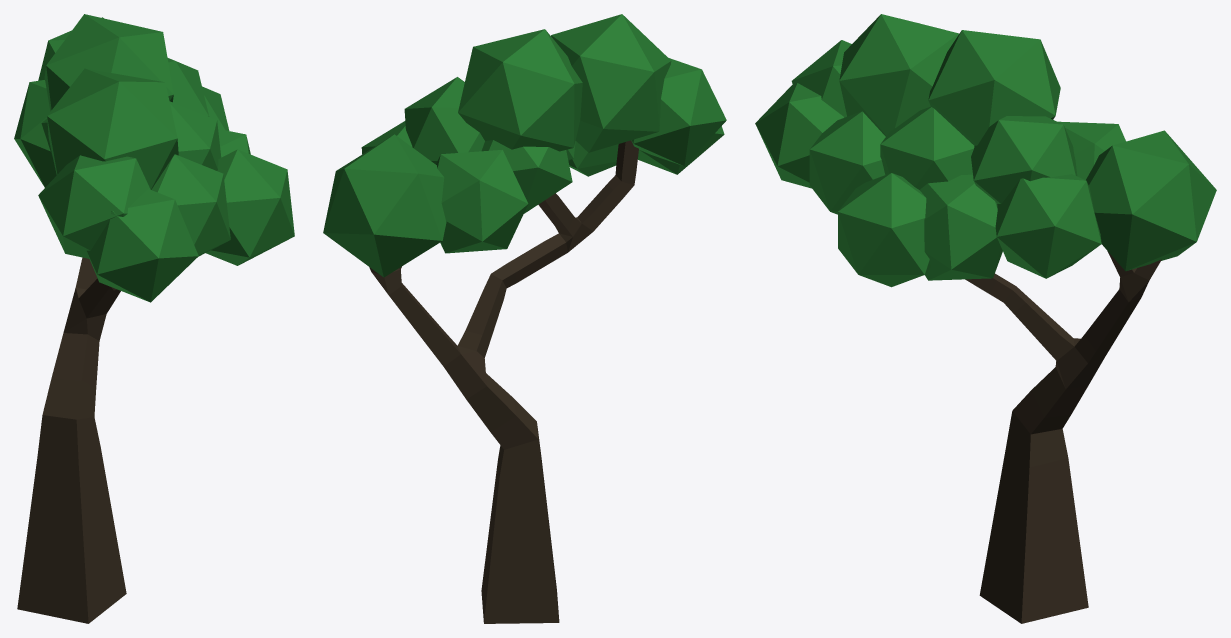
Rendered from Tree1.glb.
3 renders of one model, left to right at view 1: azimuth 30°, elevation 25°; view 2: azimuth 150°, elevation 25°; view 3: azimuth 270°, elevation 25°, orthographic. The views are drawn at different scales.
Visible parts, largest first — view 1: Trunk, Leaf.001, Leaf, Leaf.006, Leaf.009, Leaf.007, Leaf.003, Leaf.005, Leaf.011, Leaf.012, Leaf.010, Leaf.004 (+1 smaller); view 2: Trunk, Leaf.002, Leaf.007, Leaf.001, Leaf.005, Leaf.006, Leaf.012, Leaf.008, Leaf.003, Leaf; view 3: Trunk, Leaf.002, Leaf.007, Leaf.001, Leaf.004, Leaf.009, Leaf.010, Leaf.012, Leaf.011, Leaf.003, Leaf, Leaf.005 (+1 smaller).
Part boxes in pixels (left/top/right/bottom): Trunk: left=17, top=257, right=126, bottom=623; Leaf.001: left=47, top=68, right=178, bottom=189; Leaf: left=87, top=189, right=198, bottom=302; Leaf.006: left=38, top=155, right=150, bottom=258; Leaf.009: left=206, top=149, right=294, bottom=265; Leaf.007: left=44, top=14, right=173, bottom=111; Leaf.003: left=151, top=154, right=230, bottom=256; Leaf.005: left=14, top=80, right=56, bottom=187; Leaf.011: left=169, top=101, right=221, bottom=170; Leaf.012: left=167, top=58, right=209, bottom=116; Leaf.010: left=218, top=129, right=250, bottom=157; Leaf.004: left=202, top=86, right=229, bottom=130; Trunk: left=369, top=140, right=638, bottom=623; Leaf.002: left=323, top=134, right=446, bottom=277; Leaf.007: left=458, top=29, right=582, bottom=151; Leaf.001: left=551, top=14, right=671, bottom=152; Leaf.005: left=436, top=150, right=528, bottom=253; Leaf.006: left=631, top=58, right=726, bottom=166; Leaf.012: left=404, top=77, right=484, bottom=164; Leaf.008: left=481, top=140, right=572, bottom=213; Leaf.003: left=568, top=141, right=618, bottom=176; Leaf: left=638, top=126, right=724, bottom=174; Trunk: left=965, top=251, right=1161, bottom=623; Leaf.002: left=1086, top=130, right=1216, bottom=271; Leaf.007: left=928, top=30, right=1060, bottom=145; Leaf.001: left=839, top=14, right=958, bottom=136; Leaf.004: left=995, top=174, right=1101, bottom=278; Leaf.009: left=838, top=173, right=930, bottom=287; Leaf.010: left=919, top=174, right=1002, bottom=280; Leaf.012: left=971, top=116, right=1077, bottom=203; Leaf.011: left=880, top=106, right=974, bottom=189; Leaf.003: left=809, top=111, right=885, bottom=214; Leaf: left=755, top=83, right=843, bottom=188; Leaf.005: left=1058, top=121, right=1125, bottom=179.
Bounding box in the file's own units: 4.97 × 10.21 × 7.4.
